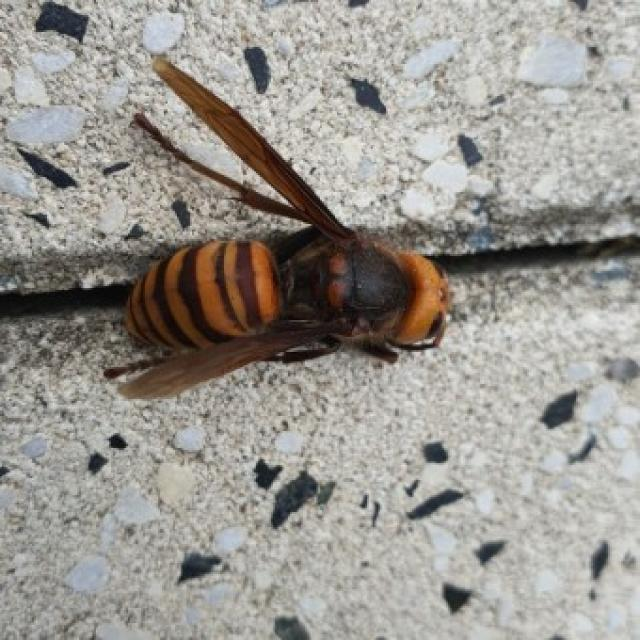Wasp: (123, 53, 452, 389)
